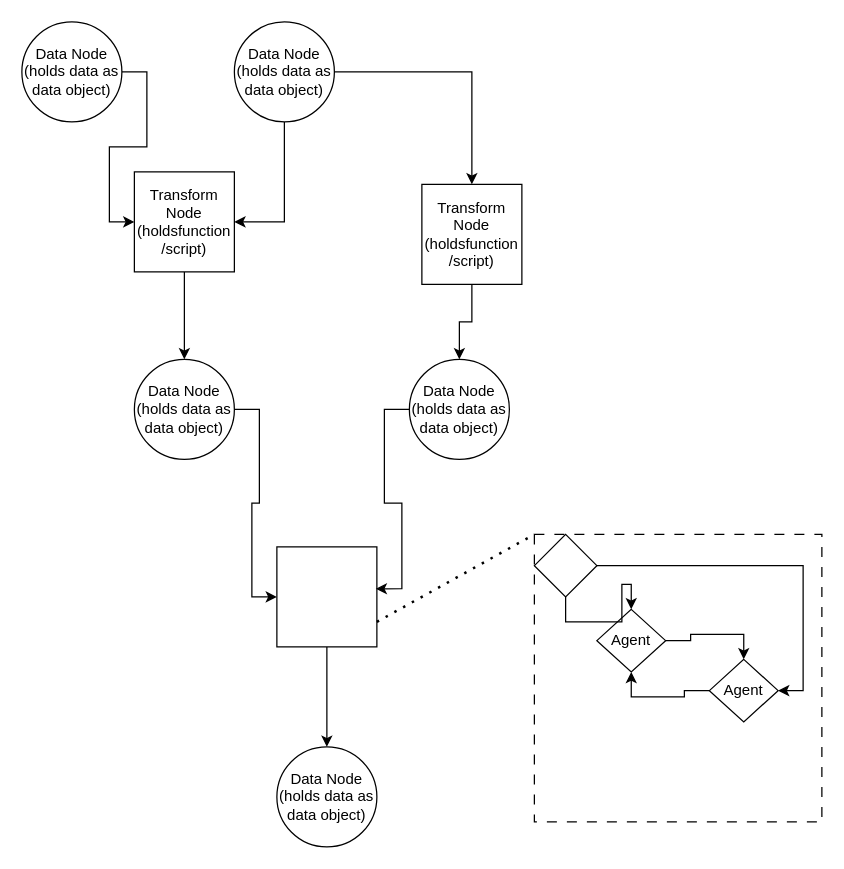
The diagram is 844 pixels wide and 869 high, and some of its shapes have lost their labels. Each missing label, with the box of its shape:
Judge: (533, 533, 597, 597)
Master Node (debate) holds information about debate: (276, 546, 377, 647)
